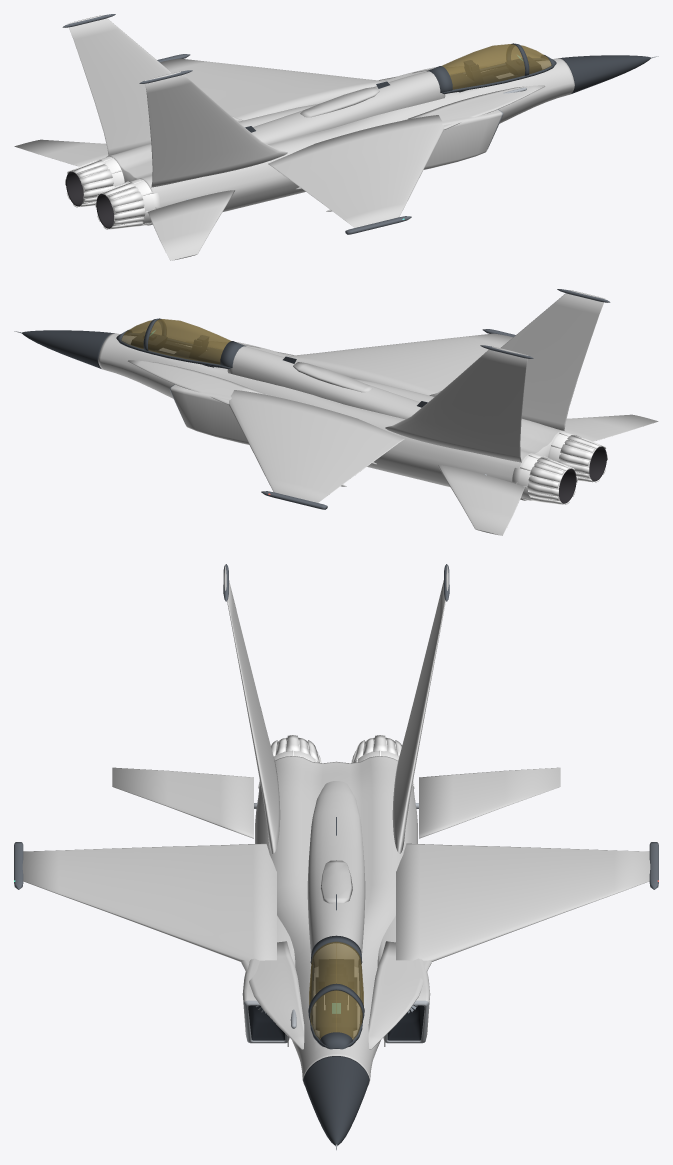
File: gemini_g4.glb
The picture shows the model from 3 angles, top to bottom: view 1: azimuth 30°, elevation 25°; view 2: azimuth 150°, elevation 25°; view 3: azimuth 270°, elevation 25°; orthographic projection. The views are drawn at different scales.
Visible parts, largest first — view 1: G_wing_R, G_fuselage, G_vtail_R, G_vtail_L, G_wing_L, G_dorsal_spine, G_htail_R, G_canopy_glass, G_intake_R, G_radome, G_lerx_R, G_htail_L (+8 smaller); view 2: G_wing_L, G_fuselage, G_vtail_L, G_vtail_R, G_wing_R, G_dorsal_spine, G_htail_L, G_canopy_glass, G_intake_L, G_radome, G_lerx_L, G_htail_R (+8 smaller); view 3: G_wing_L, G_wing_R, G_fuselage, G_dorsal_spine, G_htail_L, G_htail_R, G_canopy_glass, G_radome, G_vtail_L, G_vtail_R, G_lerx_L, G_lerx_R (+5 smaller).
Boxes of the visible parts, x1,y1,x2,y2 form: G_wing_R: (268, 115, 444, 227); G_fuselage: (106, 58, 574, 225); G_vtail_R: (144, 71, 287, 187); G_vtail_L: (67, 15, 243, 155); G_wing_L: (160, 58, 388, 120); G_dorsal_spine: (121, 71, 445, 184); G_htail_R: (148, 190, 234, 260); G_canopy_glass: (442, 44, 551, 89); G_intake_R: (403, 109, 503, 169); G_radome: (558, 55, 650, 93); G_lerx_R: (408, 85, 545, 129); G_htail_L: (14, 139, 108, 166); G_wing_L: (228, 390, 404, 502); G_fuselage: (98, 333, 566, 500); G_vtail_L: (385, 346, 528, 462); G_vtail_R: (429, 290, 605, 430); G_wing_R: (284, 333, 512, 395); G_dorsal_spine: (227, 346, 551, 459); G_htail_L: (438, 465, 524, 535); G_canopy_glass: (121, 319, 230, 364); G_intake_L: (169, 384, 269, 444); G_radome: (22, 330, 114, 368); G_lerx_L: (127, 360, 264, 404); G_htail_R: (564, 414, 658, 441); G_wing_L: (396, 843, 650, 961); G_wing_R: (22, 843, 276, 961); G_fuselage: (255, 756, 417, 1085); G_dorsal_spine: (307, 781, 365, 967); G_htail_L: (419, 767, 560, 838); G_htail_R: (112, 767, 253, 838); G_canopy_glass: (309, 941, 363, 1039); G_radome: (303, 1056, 369, 1145); G_vtail_L: (392, 565, 448, 853); G_vtail_R: (224, 565, 280, 853); G_lerx_L: (368, 941, 431, 1049); G_lerx_R: (241, 941, 304, 1049).
Bounding box in the file's own units: 19 × 5.45 × 13.
